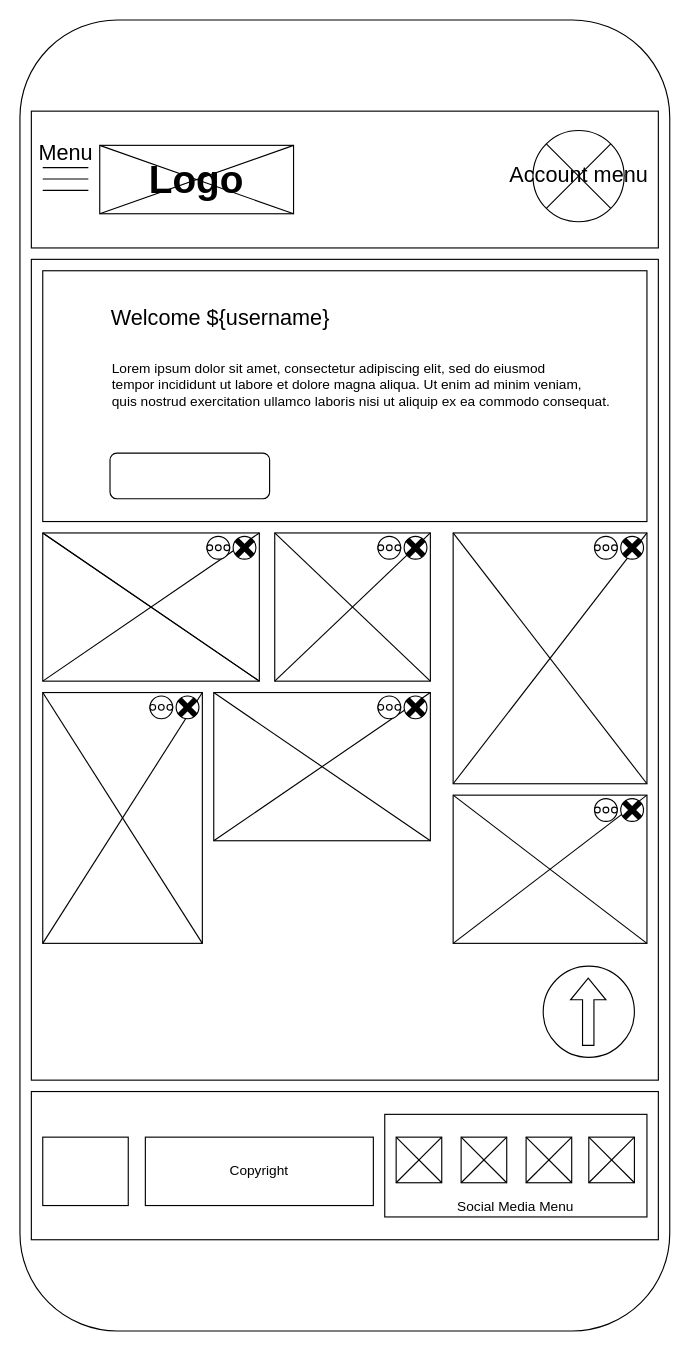
The diagram is 690 pixels wide and 1351 high, and some of its shapes have lost their labels. Here are the shapes that lost their labels. From the top down, the centre of each, then its label:
pixel 189 475: Add Image Button
pixel 85 1171: Logout
